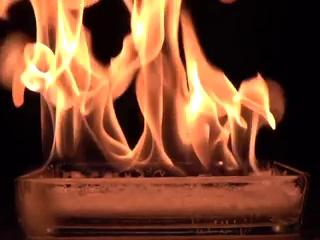Fire: (31, 1, 283, 181)
